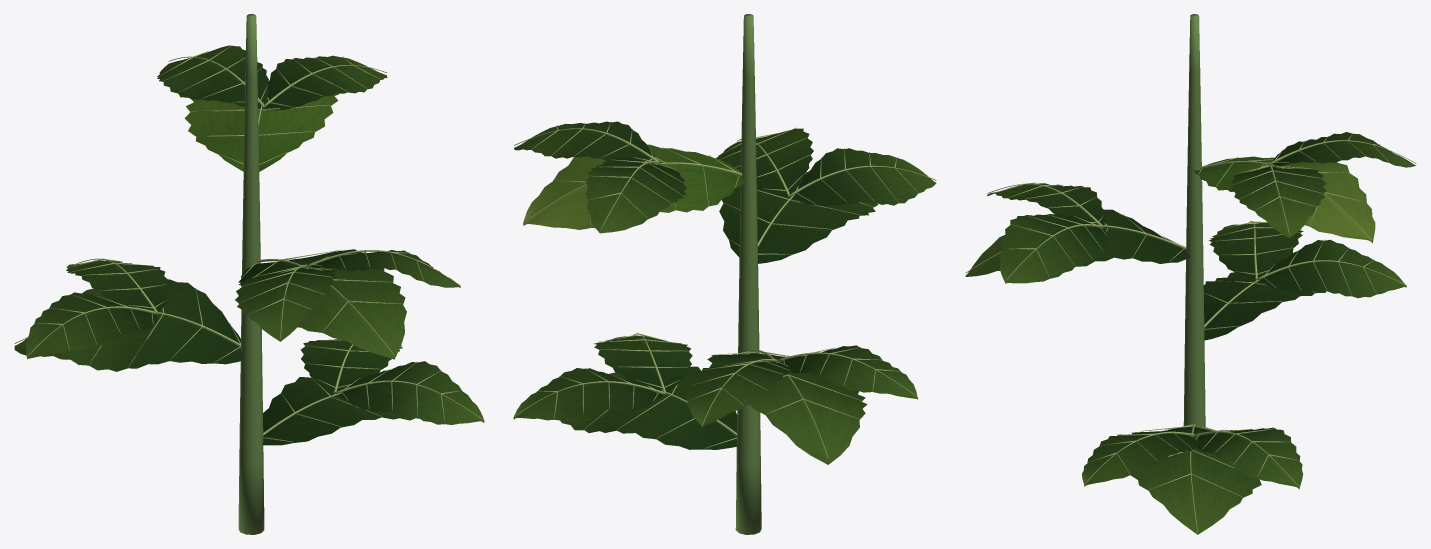
File: rose-04.glb
The picture shows the model from 3 angles, left to right: view 1: azimuth 30°, elevation 25°; view 2: azimuth 150°, elevation 25°; view 3: azimuth 270°, elevation 25°; orthographic projection. The views are drawn at different scales.
Parts seen in each view (by area): view 1: rose_stage_04_leaf_veins.006, rose_stage_04_stem_fibres.006, rose_stage_04_raised_midveins.006, rose_stage_04_young_leaf.006; view 2: rose_stage_04_leaf_veins.006, rose_stage_04_stem_fibres.006, rose_stage_04_raised_midveins.006, rose_stage_04_young_leaf.006; view 3: rose_stage_04_leaf_veins.006, rose_stage_04_stem_fibres.006, rose_stage_04_raised_midveins.006, rose_stage_04_young_leaf.006.
Part boxes in pixels (box(x1,y1,x2,y2)): rose_stage_04_leaf_veins.006: box(14, 45, 484, 445); rose_stage_04_stem_fibres.006: box(238, 14, 264, 534); rose_stage_04_raised_midveins.006: box(14, 45, 484, 442); rose_stage_04_young_leaf.006: box(184, 93, 339, 171); rose_stage_04_leaf_veins.006: box(513, 121, 936, 464); rose_stage_04_stem_fibres.006: box(735, 14, 761, 534); rose_stage_04_raised_midveins.006: box(513, 121, 936, 458); rose_stage_04_young_leaf.006: box(523, 144, 747, 229); rose_stage_04_leaf_veins.006: box(965, 132, 1415, 534); rose_stage_04_stem_fibres.006: box(1183, 14, 1205, 426); rose_stage_04_raised_midveins.006: box(965, 133, 1416, 532); rose_stage_04_young_leaf.006: box(1194, 156, 1375, 243).
Size of the model in its own units: 0.1439 by 0.174 by 0.1449.
Materials: 4 (2 with a texture image).
